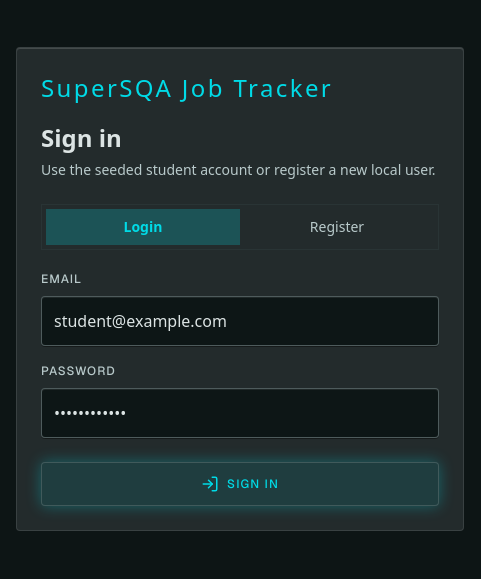
Test: AuthScreen › shows a friendly auth error
Click the button "Sign in" at (240, 484), box [41,462,439,506]
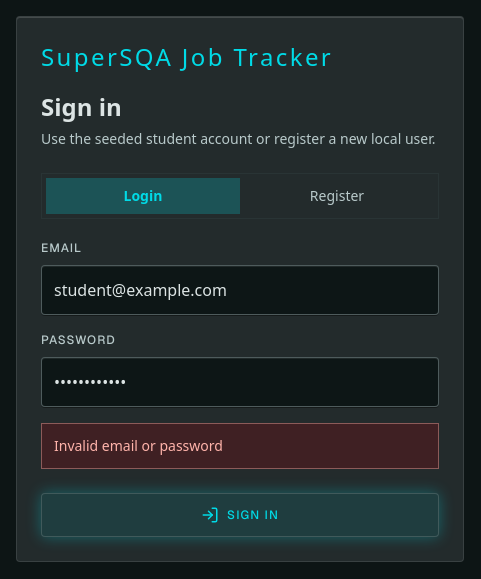
Now the text "Invalid email or password" is shown, box [41,423,439,469]
